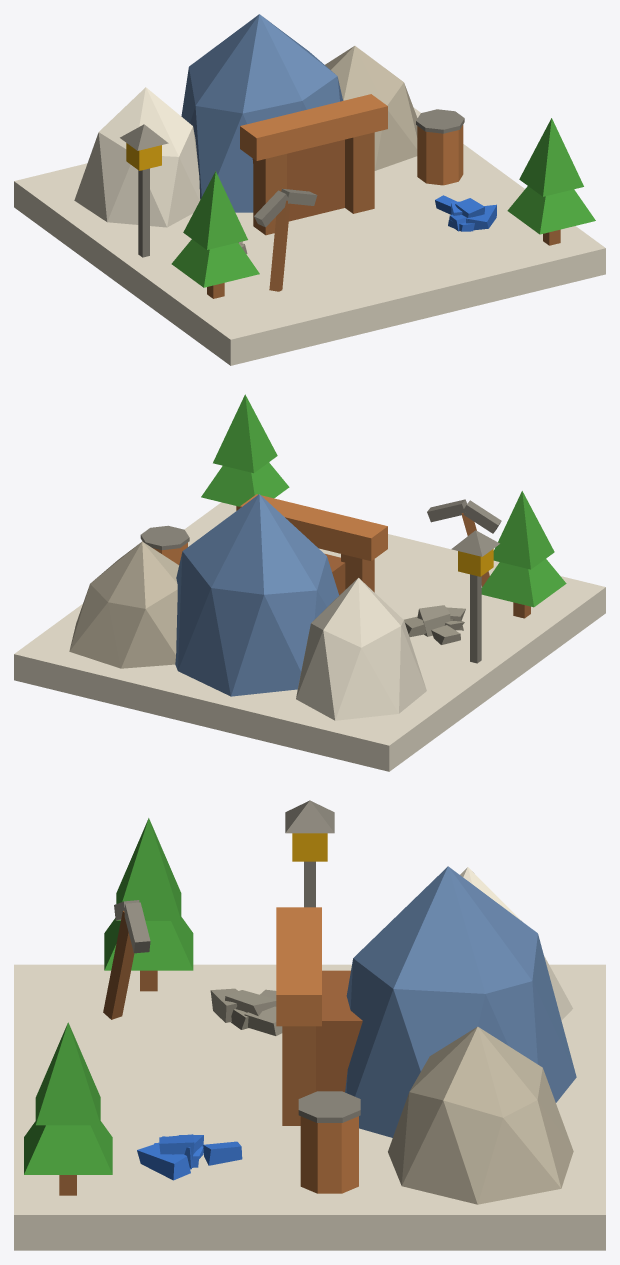
File: mine_t1_v3.glb
3 renders of one model, top to bottom at view 1: azimuth 30°, elevation 25°; view 2: azimuth 150°, elevation 25°; view 3: azimuth 270°, elevation 25°, orthographic. The views are drawn at different scales.
Visible parts, largest first — view 1: mine_t1_v3; view 2: mine_t1_v3; view 3: mine_t1_v3.
Boxes of the visible parts, <box> form: mine_t1_v3: <box>14,14,605,365</box>; mine_t1_v3: <box>14,394,605,771</box>; mine_t1_v3: <box>14,800,605,1250</box>.
Size of the model in its own units: 0.6 by 0.29 by 0.6.
Materials: 1 (1 with a texture image).
